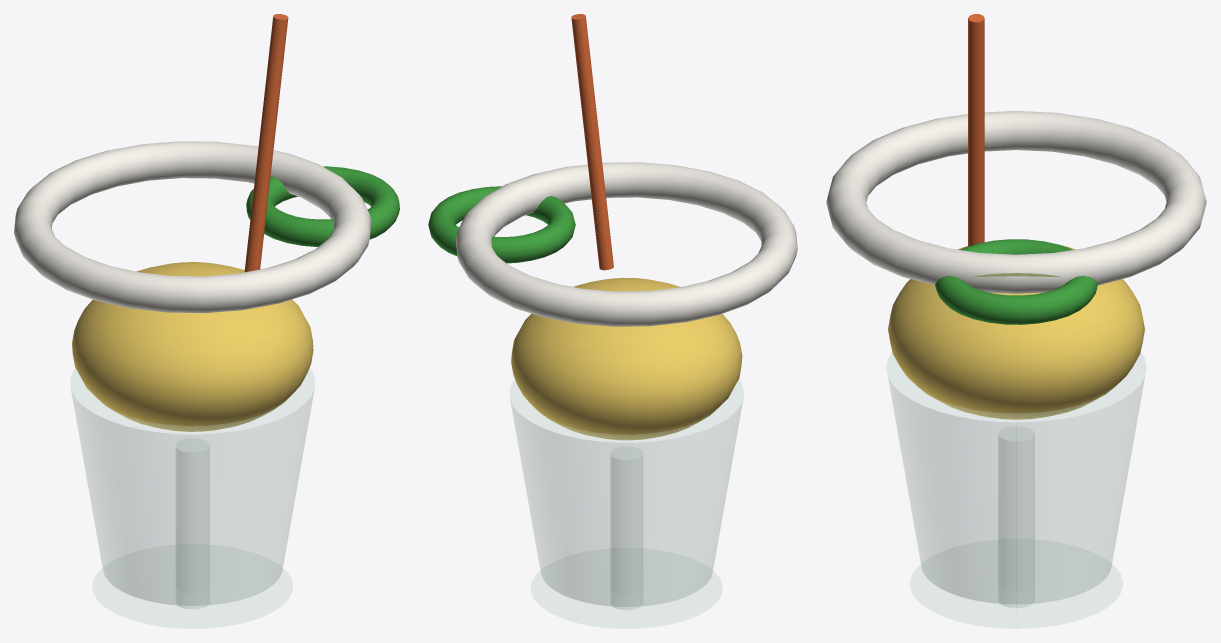
File: margarita.glb
3 views of the same model, side by side, from view 1: azimuth 30°, elevation 25°; view 2: azimuth 150°, elevation 25°; view 3: azimuth 270°, elevation 25° (orthographic). The views are drawn at different scales.
Bounding box in the file's own units: 0.1292 × 0.205 × 0.1139.
